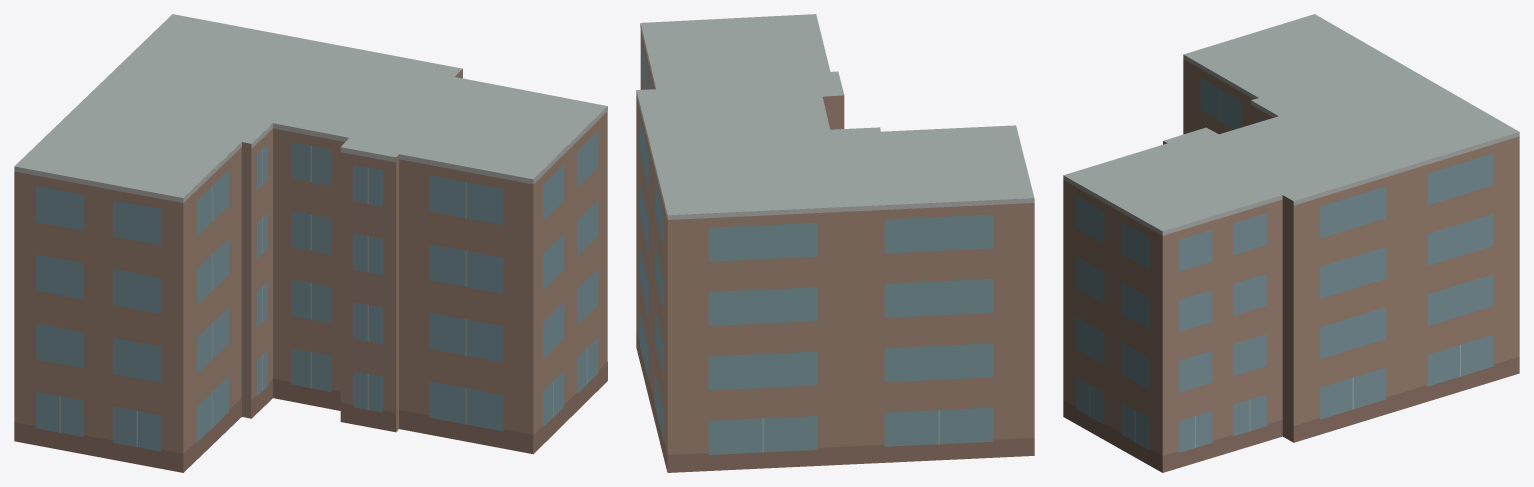
The model's file is survey-upis-32610125.glb.
3 renders of one model, left to right at view 1: azimuth 30°, elevation 25°; view 2: azimuth 150°, elevation 25°; view 3: azimuth 270°, elevation 25°, orthographic. The views are drawn at different scales.
Parts seen in each view (by area): view 1: survey-upis-32610125.tmp; view 2: survey-upis-32610125.tmp; view 3: survey-upis-32610125.tmp.
Boxes of the visible parts, box(x1,y1,x2,y2) form: survey-upis-32610125.tmp: box(14, 14, 607, 472); survey-upis-32610125.tmp: box(636, 14, 1034, 472); survey-upis-32610125.tmp: box(1063, 14, 1519, 472).
Bounding box in the file's own units: 25.68 × 13.3 × 22.79.
